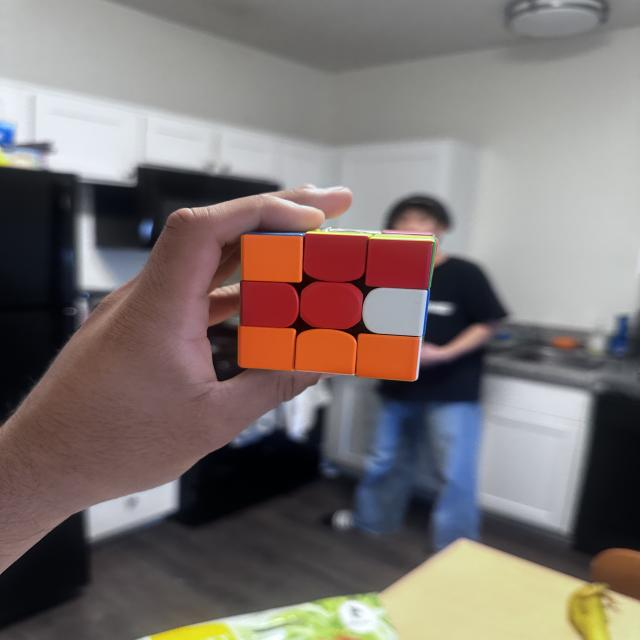sticker: (365, 231, 437, 292), (302, 227, 369, 285), (360, 286, 430, 338), (238, 230, 304, 284), (298, 280, 364, 332), (354, 332, 421, 382), (294, 327, 358, 377), (239, 280, 301, 330), (236, 324, 297, 373)
